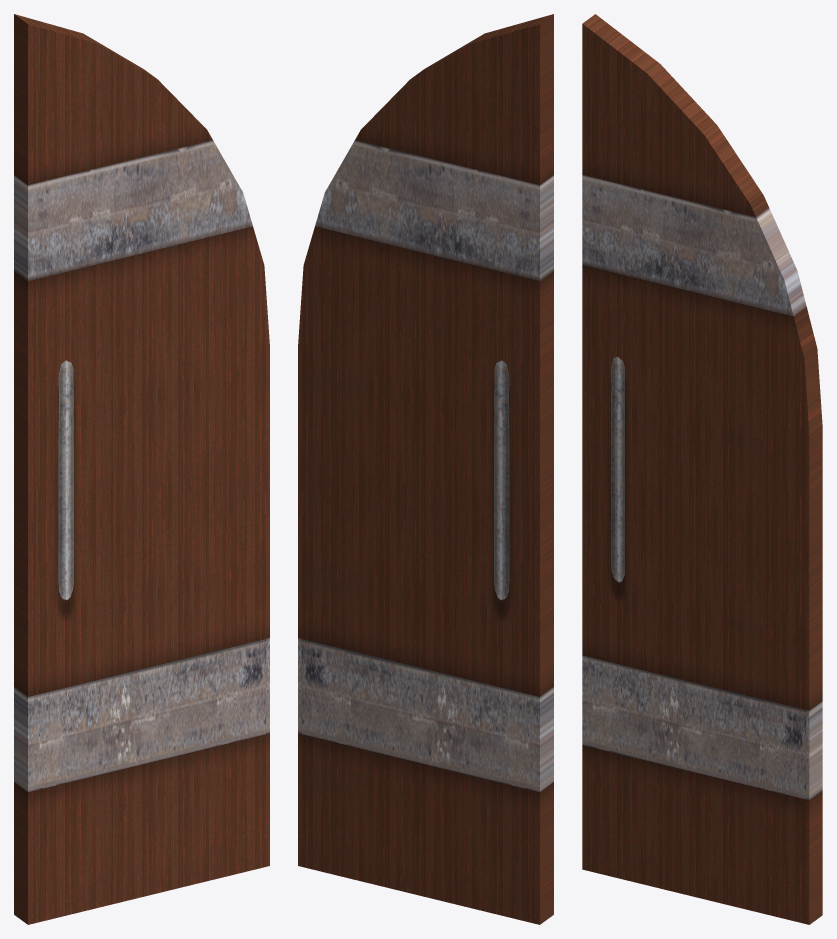
Rendered from door.FBX.
The picture shows the model from 3 angles, left to right: view 1: azimuth 30°, elevation 25°; view 2: azimuth 150°, elevation 25°; view 3: azimuth 330°, elevation 25°; orthographic projection. The views are drawn at different scales.
Visible parts, largest first — view 1: Line022; view 2: Line022; view 3: Line022.
Part boxes in pixels (left/top/right/bottom): Line022: left=14, top=14, right=269, bottom=924; Line022: left=298, top=14, right=553, bottom=924; Line022: left=582, top=14, right=822, bottom=924.
Bounding box in the file's own units: 0.508 × 0.0508 × 1.81.
1 material, 1 textured.
